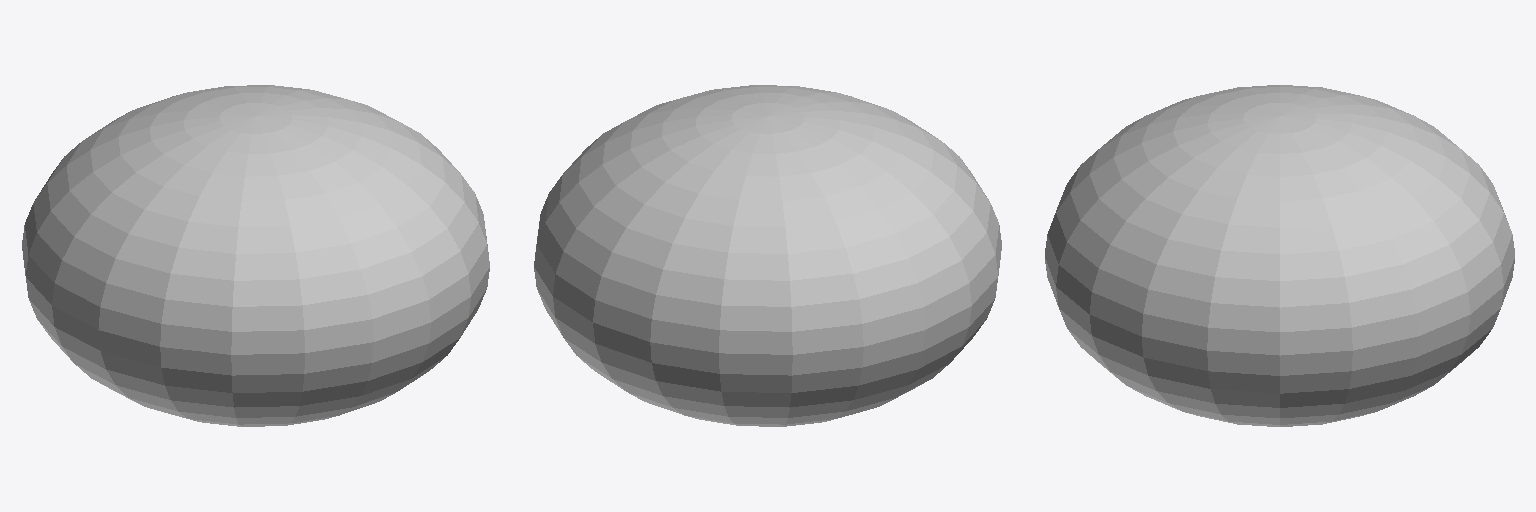
Rendered from ellipsoid.obj.
3 views of the same model, side by side, from view 1: azimuth 30°, elevation 25°; view 2: azimuth 150°, elevation 25°; view 3: azimuth 270°, elevation 25° (orthographic).
Parts seen in each view (by area): view 1: pSphere1; view 2: pSphere1; view 3: pSphere1.
Part boxes in pixels (bbox=[...]): pSphere1: bbox=[22, 85, 489, 426]; pSphere1: bbox=[534, 85, 1001, 426]; pSphere1: bbox=[1045, 85, 1514, 426].
Bounding box in the file's own units: 6.43 × 4.2 × 6.43.